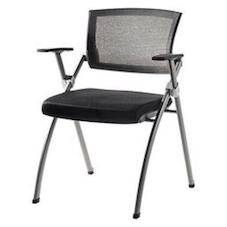chair: (19, 0, 210, 225)
